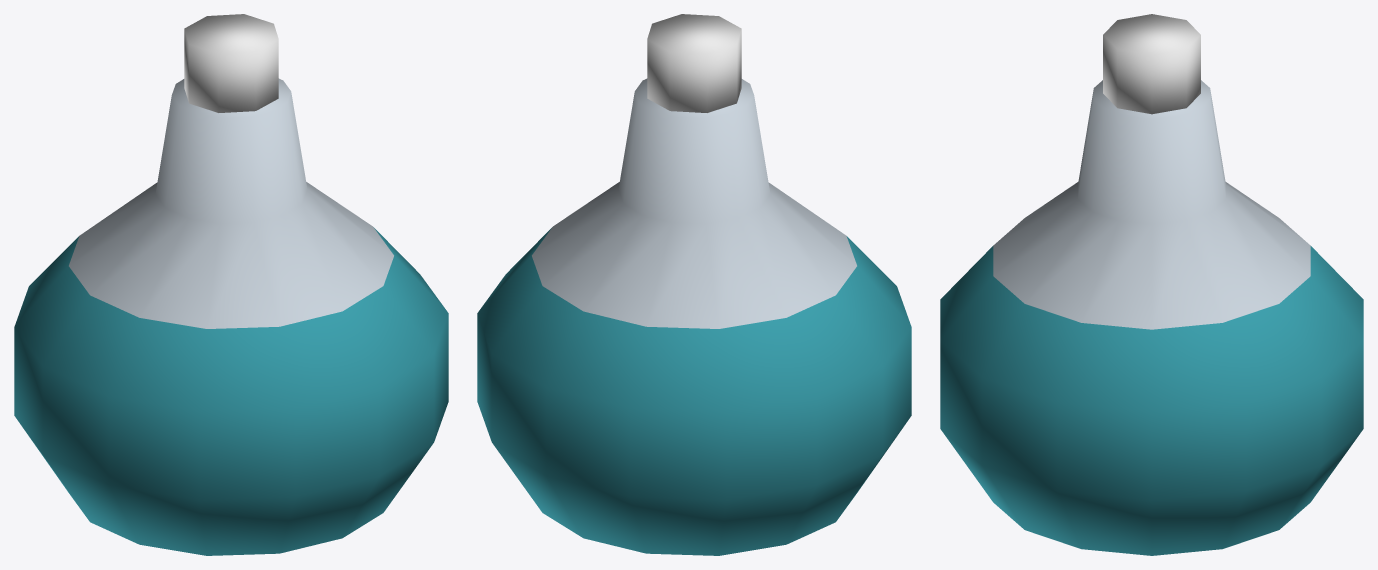
Rendered from gills_potion.glb.
3 views of the same model, side by side, from view 1: azimuth 30°, elevation 25°; view 2: azimuth 150°, elevation 25°; view 3: azimuth 270°, elevation 25° (orthographic).
Visible parts, largest first — view 1: gillweed_draught_v0; view 2: gillweed_draught_v0; view 3: gillweed_draught_v0.
Part boxes in pixels (x1,y1,x2,y2): gillweed_draught_v0: (14, 14, 448, 555); gillweed_draught_v0: (477, 14, 911, 555); gillweed_draught_v0: (940, 14, 1363, 555).
Bounding box in the file's own units: 0.24 × 0.276 × 0.234.
